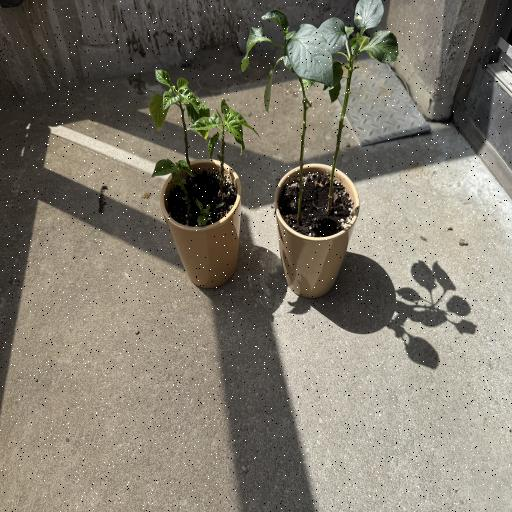Plant Pot: (274, 161, 360, 297), (157, 159, 244, 290)
